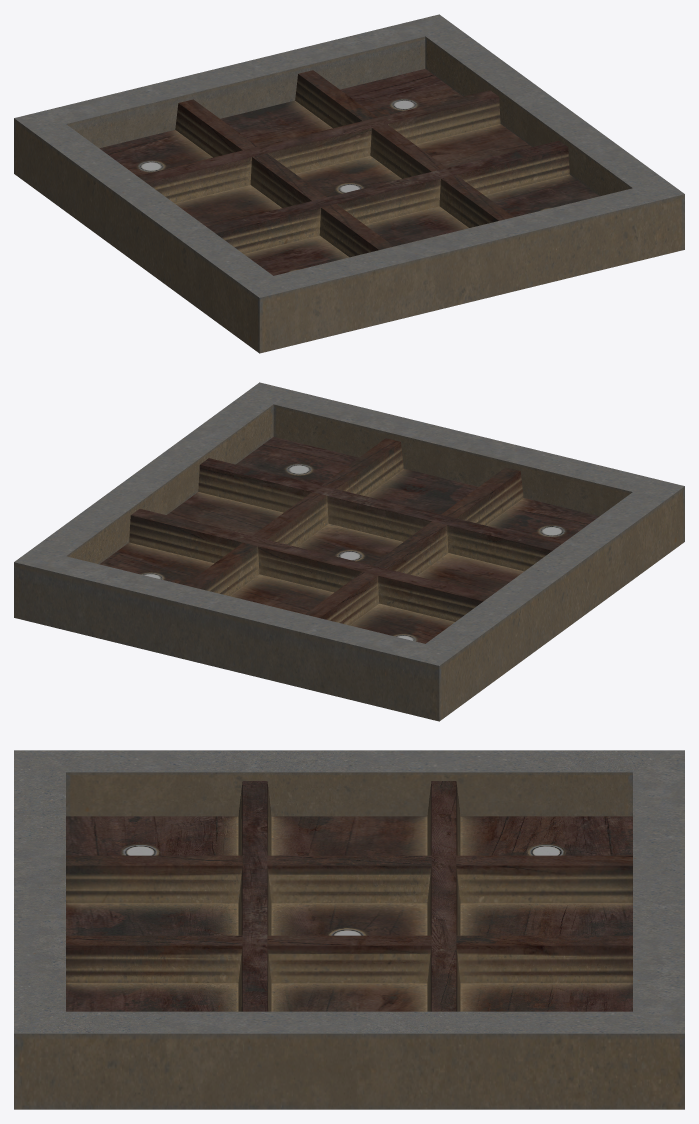
File: SM_Ceiling4m.FBX
3 views of the same model, one above another, from view 1: azimuth 30°, elevation 25°; view 2: azimuth 150°, elevation 25°; view 3: azimuth 270°, elevation 25° (orthographic). The views are drawn at different scales.
Parts seen in each view (by area): view 1: SM_Ceiling4m; view 2: SM_Ceiling4m; view 3: SM_Ceiling4m.
Boxes of the visible parts, <box> form: SM_Ceiling4m: <box>14,14,684,353</box>; SM_Ceiling4m: <box>14,382,684,721</box>; SM_Ceiling4m: <box>14,750,684,1109</box>.
Size of the model in its own units: 400 by 400 by 50.
